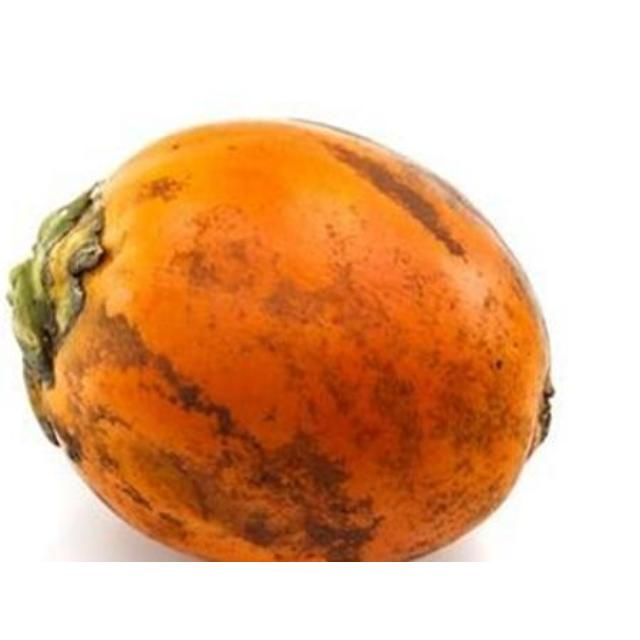good: (9, 118, 550, 560)
